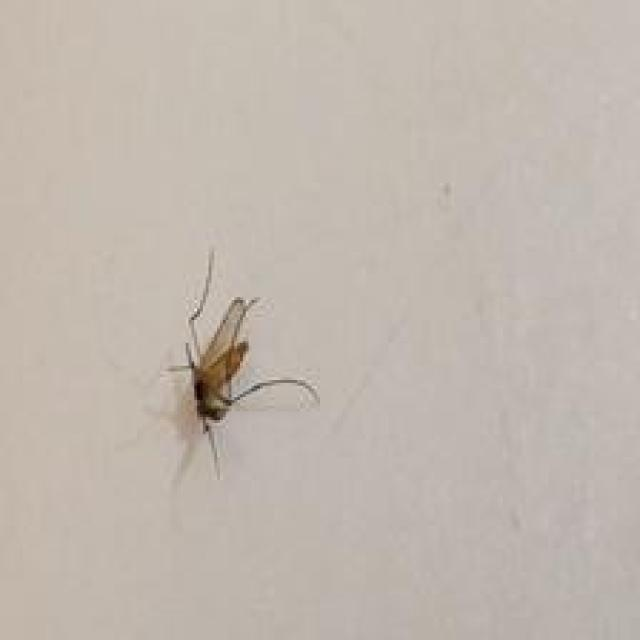Culex: (163, 247, 320, 479)
